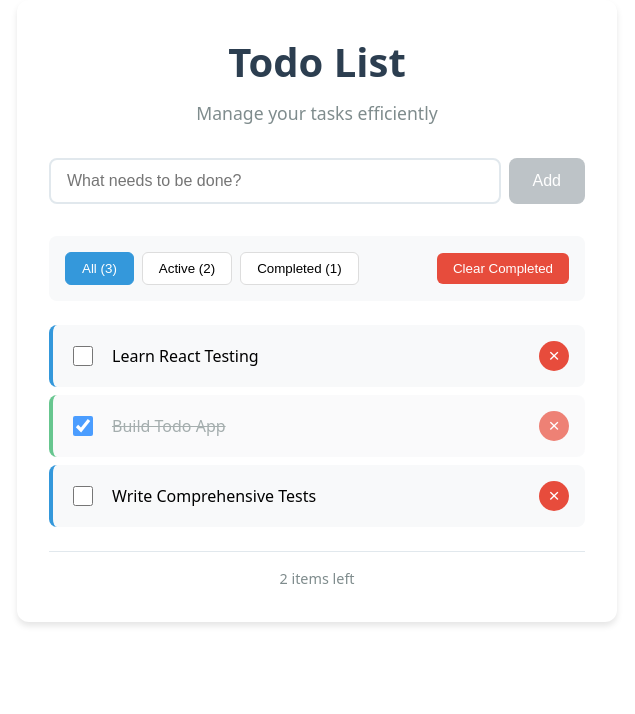
Test case: TodoList Component › adds a new todo
Type "New Test Todo" into the field with test id "todo-input" at (275,181), box x1=49 y1=158 x2=500 y2=204
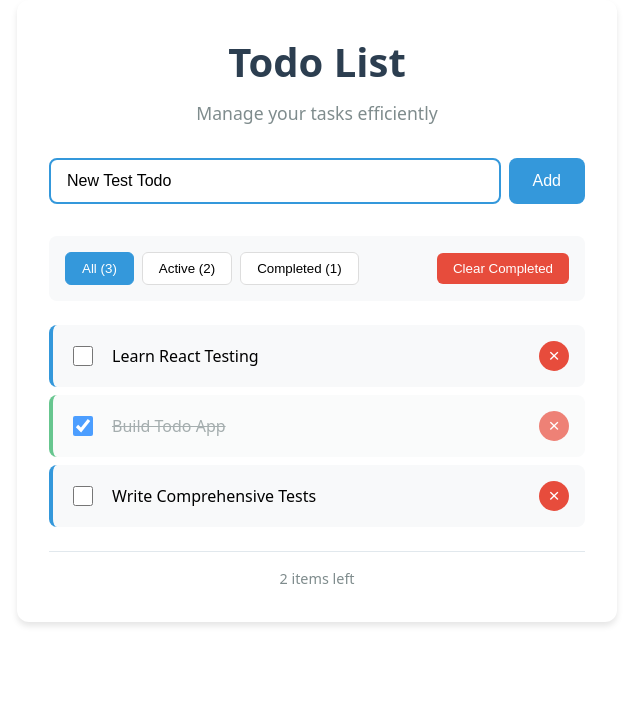
Click the button with test id "add-button" at (547,181), box x1=508 y1=158 x2=585 y2=204
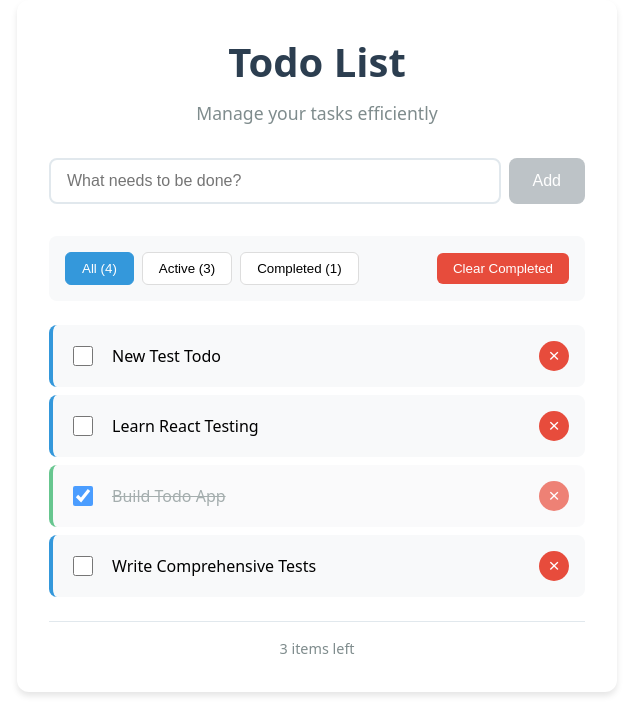
Expected: the text "New Test Todo" is shown, x1=112 y1=345 x2=221 y2=367
Expected: the text with test id "todo-count" reads "3 items left", x1=280 y1=639 x2=355 y2=658
